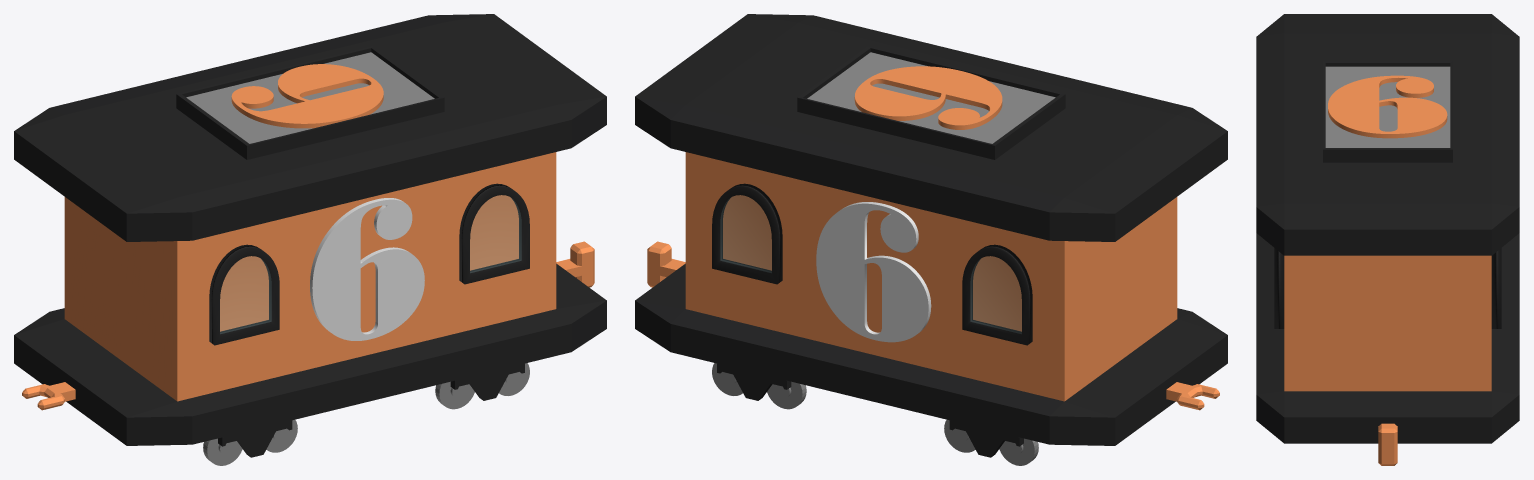
File: traincar6 joined mesh.fbx
The picture shows the model from 3 angles, left to right: view 1: azimuth 30°, elevation 25°; view 2: azimuth 150°, elevation 25°; view 3: azimuth 270°, elevation 25°; orthographic projection. The views are drawn at different scales.
Parts seen in each view (by area): view 1: Cart6; view 2: Cart6; view 3: Cart6.
Part boxes in pixels (x1,y1,x2,y2): Cart6: (14,14,606,465); Cart6: (635,14,1227,465); Cart6: (1256,14,1519,465).
Bounding box in the file's own units: 17.77 × 8.86 × 7.84.
